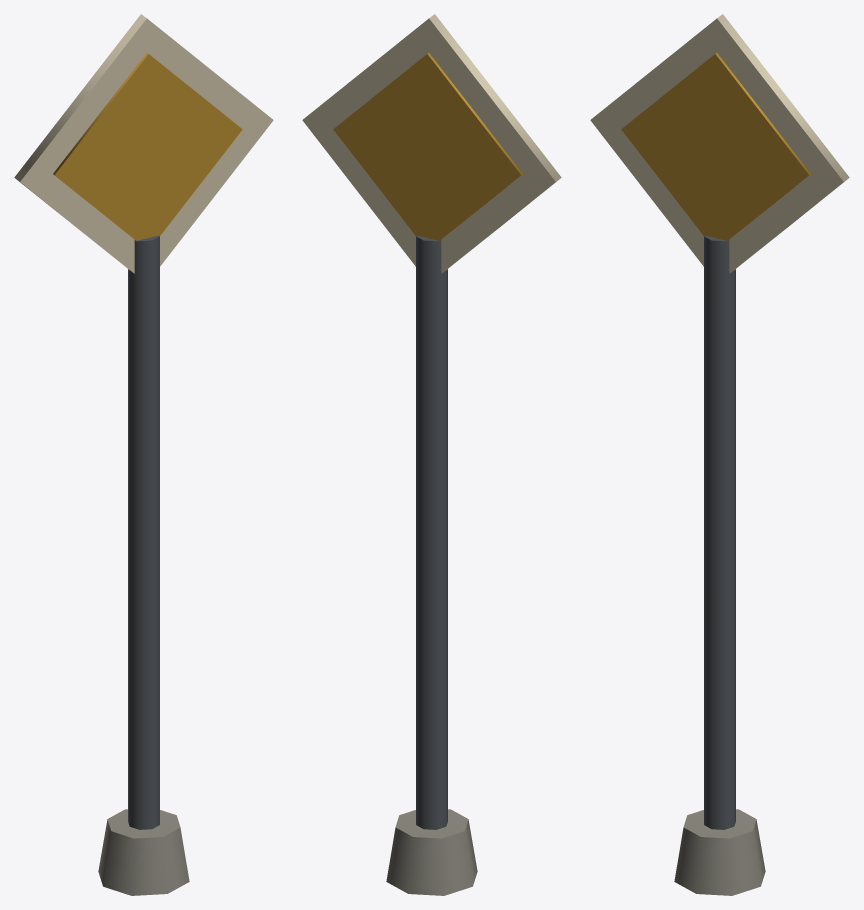
File: sign-priority.glb
3 renders of one model, left to right at view 1: azimuth 30°, elevation 25°; view 2: azimuth 150°, elevation 25°; view 3: azimuth 330°, elevation 25°, orthographic.
Parts seen in each view (by area): view 1: _MeshInstance3D_79, _MeshInstance3D_76, _MeshInstance3D_78, _MeshInstance3D_77; view 2: _MeshInstance3D_79, _MeshInstance3D_76, _MeshInstance3D_78, _MeshInstance3D_77; view 3: _MeshInstance3D_79, _MeshInstance3D_76, _MeshInstance3D_78, _MeshInstance3D_77.
Part boxes in pixels (x1,y1,x2,y2): _MeshInstance3D_79: [53, 53, 242, 241]; _MeshInstance3D_76: [128, 235, 159, 829]; _MeshInstance3D_78: [14, 14, 273, 273]; _MeshInstance3D_77: [98, 809, 189, 895]; _MeshInstance3D_79: [333, 53, 522, 241]; _MeshInstance3D_76: [416, 235, 447, 829]; _MeshInstance3D_78: [302, 14, 561, 273]; _MeshInstance3D_77: [386, 809, 477, 895]; _MeshInstance3D_79: [621, 53, 810, 241]; _MeshInstance3D_76: [704, 235, 735, 829]; _MeshInstance3D_78: [590, 14, 849, 273]; _MeshInstance3D_77: [674, 809, 765, 895].
Bounding box in the file's own units: 1.24 × 4.02 × 0.4.
